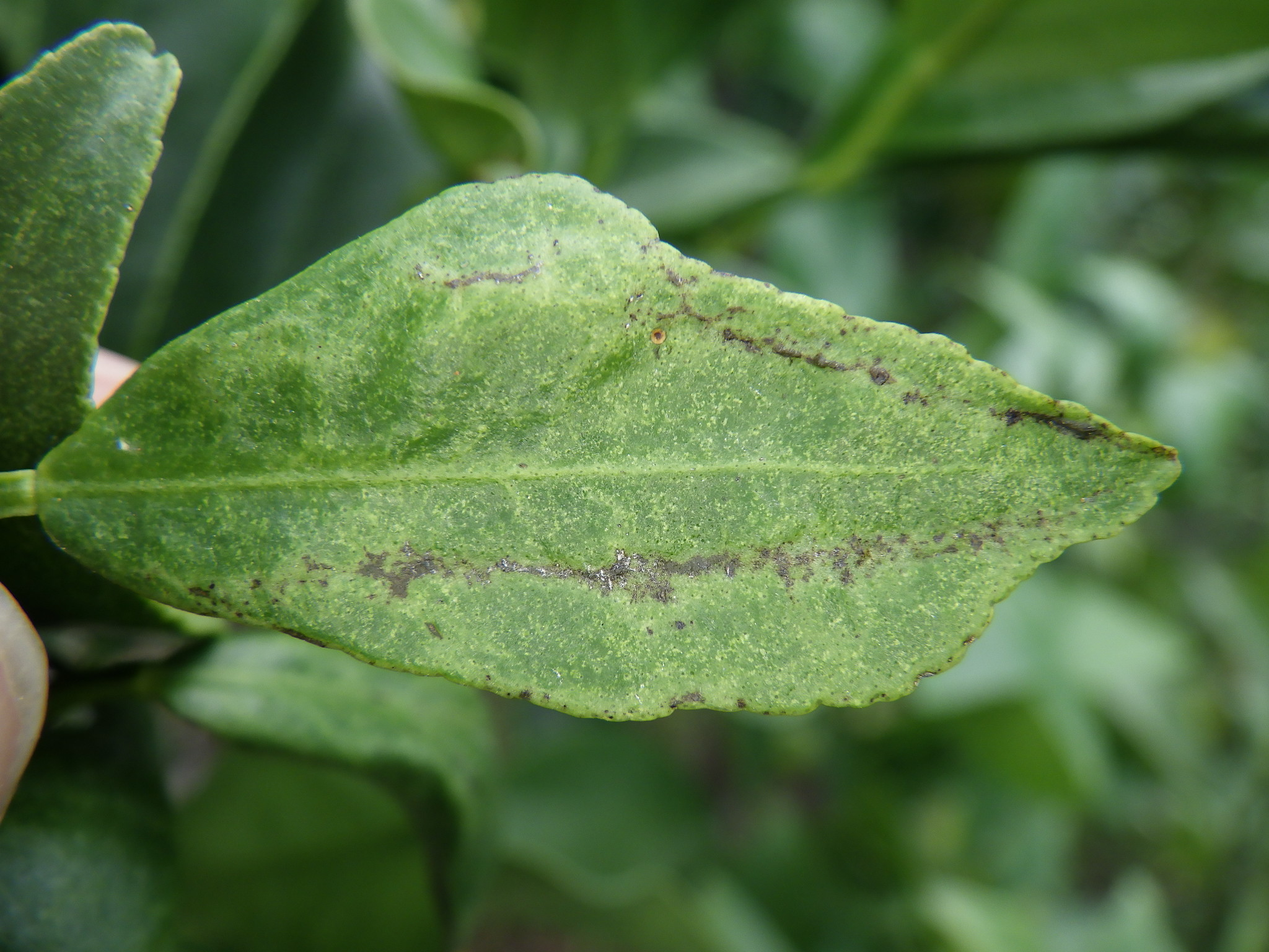Thrips_Damage: (173, 268, 1120, 614)
